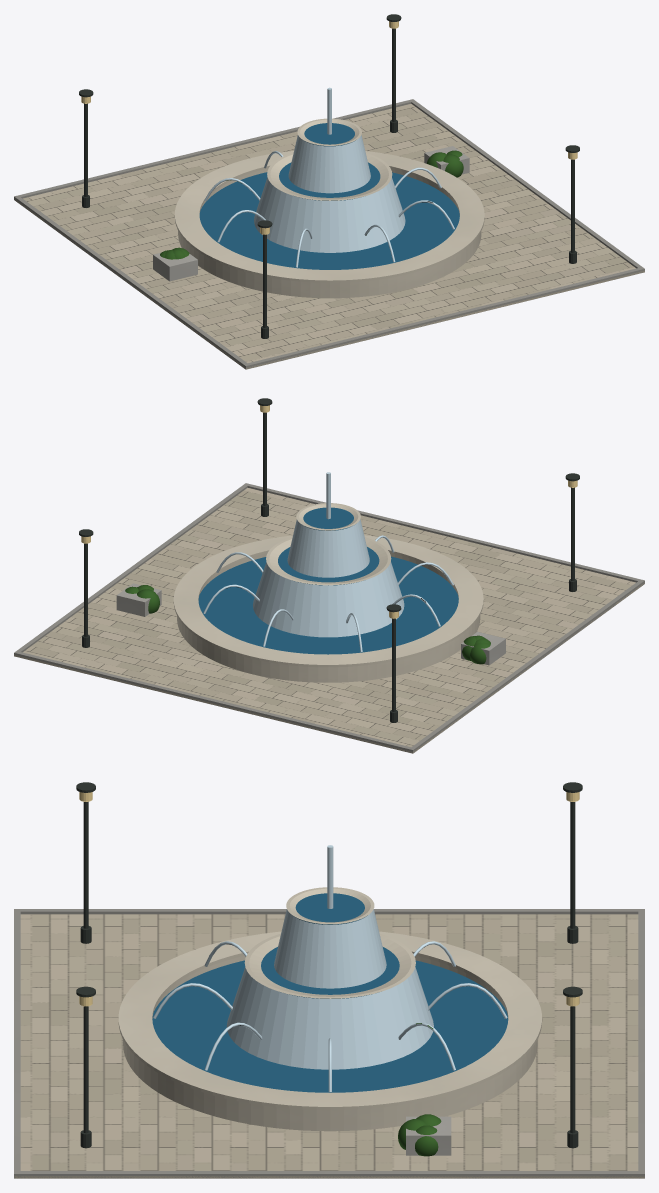
The model's file is dum_0a_fontana.glb.
3 renders of one model, top to bottom at view 1: azimuth 30°, elevation 25°; view 2: azimuth 150°, elevation 25°; view 3: azimuth 270°, elevation 25°, orthographic. The views are drawn at different scales.
Parts seen in each view (by area): view 1: dum; view 2: dum; view 3: dum.
Part boxes in pixels (<box>): dum: <box>14,14,644,369</box>; dum: <box>14,398,644,753</box>; dum: <box>14,782,644,1178</box>.
Bounding box in the file's own units: 13.88 × 5.03 × 13.96.
Materials: 1 (1 with a texture image).
